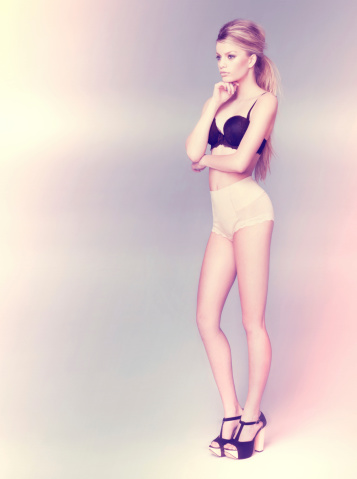em pe: (173, 7, 299, 463)
